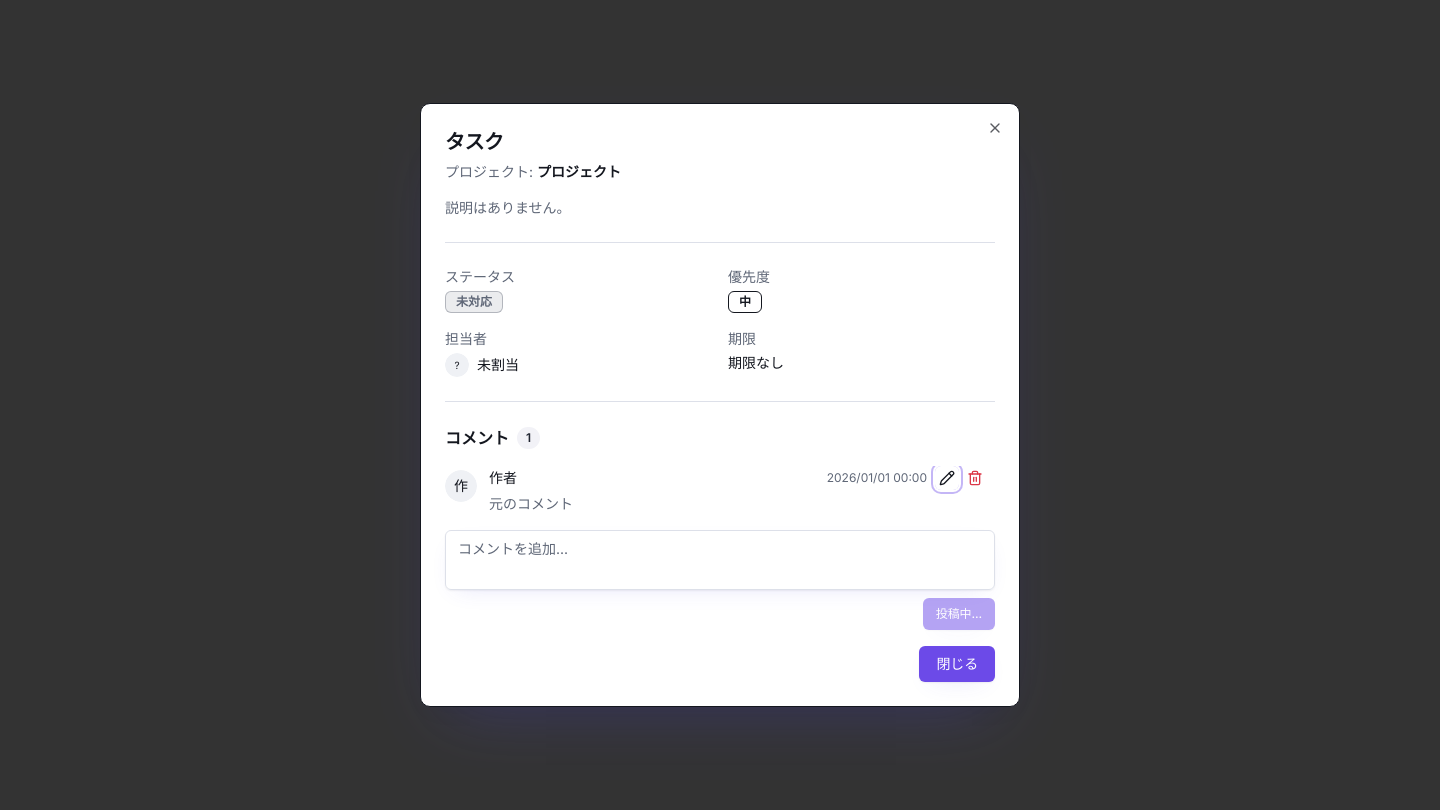
Scenario: コメント操作の共有ロック › 投稿の送信中は更新も削除確認の送信も止める
Type "下書き" into the text box named "コメント本文" at (720, 560), box [445, 530, 995, 590]
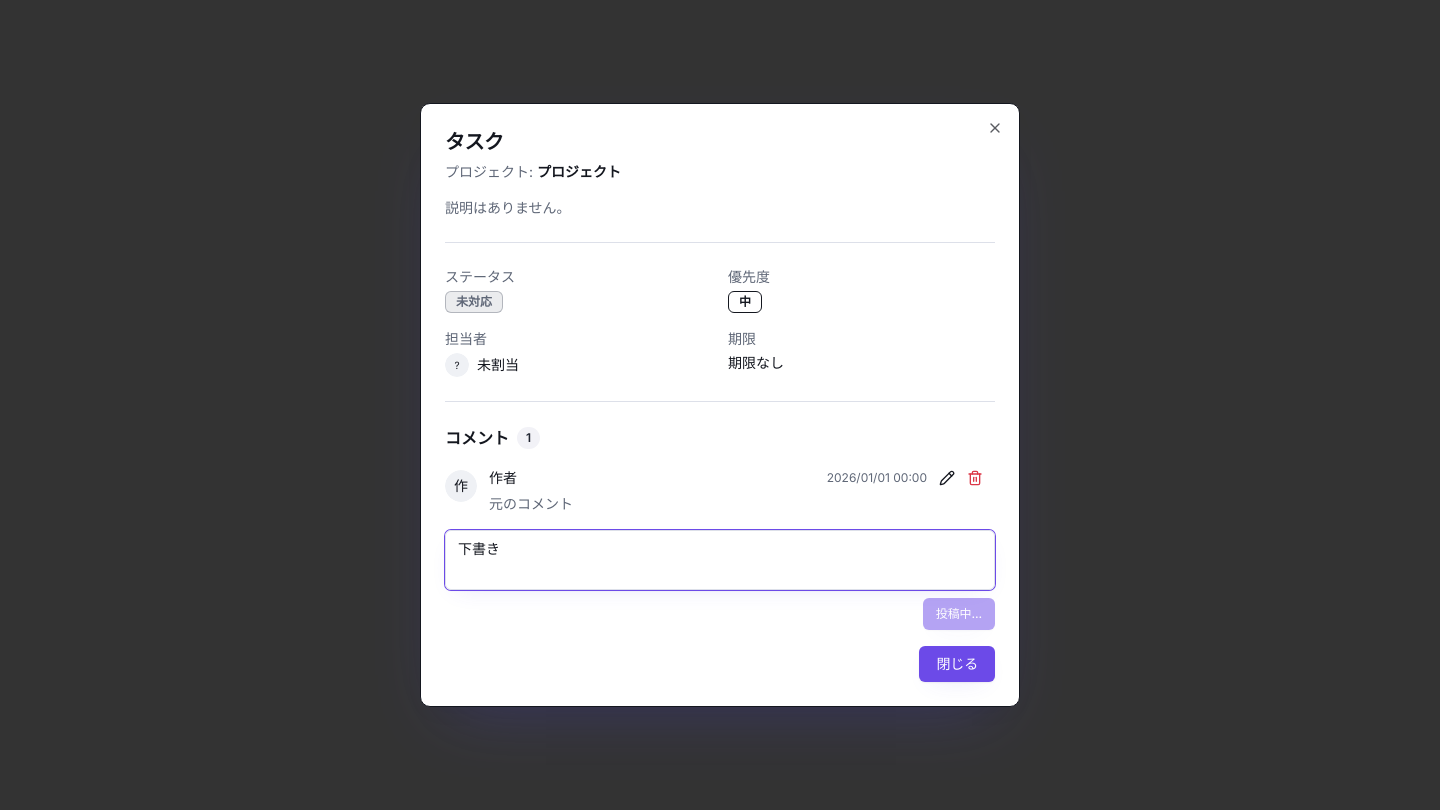
Expected: the button "投稿中..." is disabled, [923, 598, 995, 630]
Click the button named "コメントを編集" at (947, 478), box [935, 466, 959, 490]
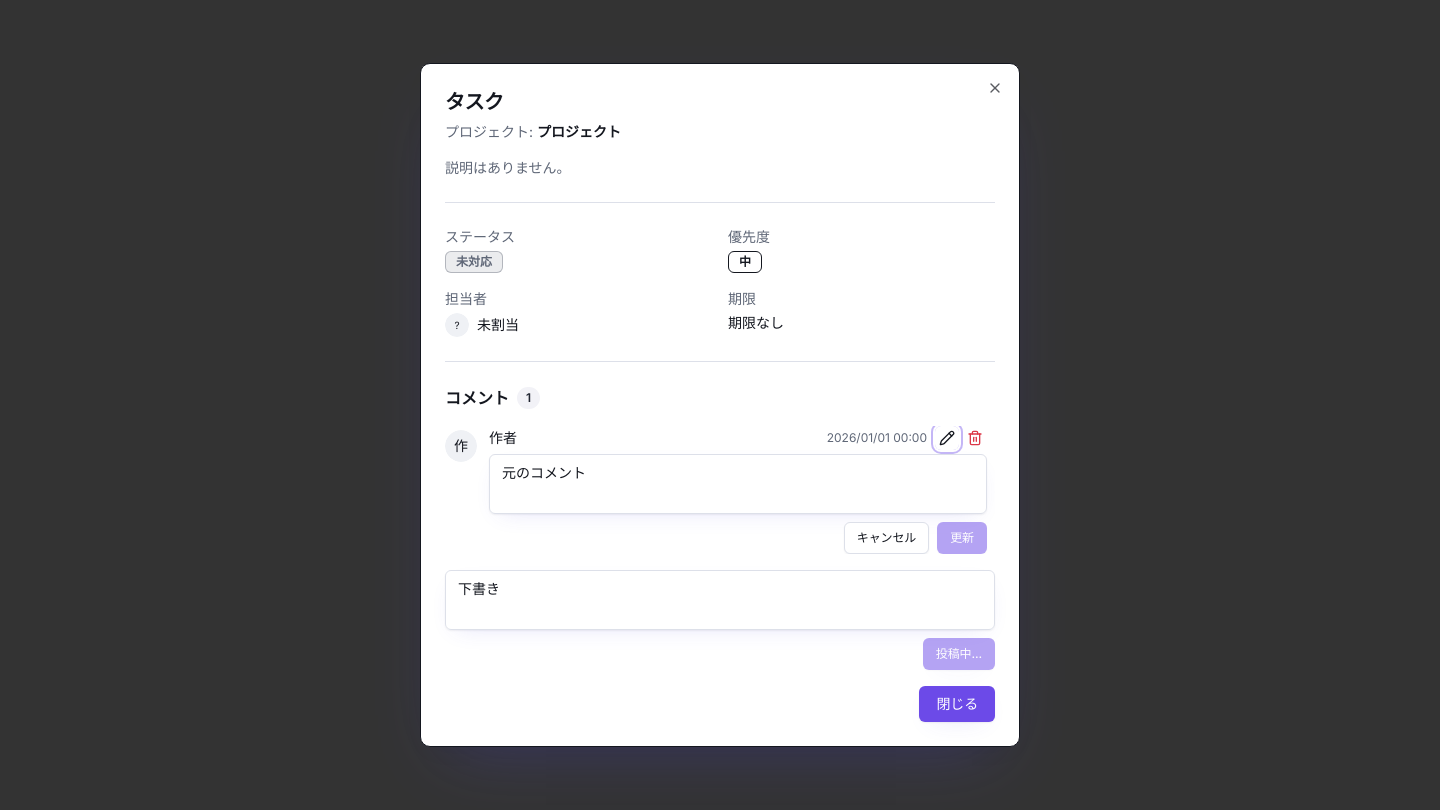
Expected: the button "更新" is disabled, [937, 522, 987, 554]
Click the button named "コメントを削除" at (975, 438), box [963, 426, 987, 450]
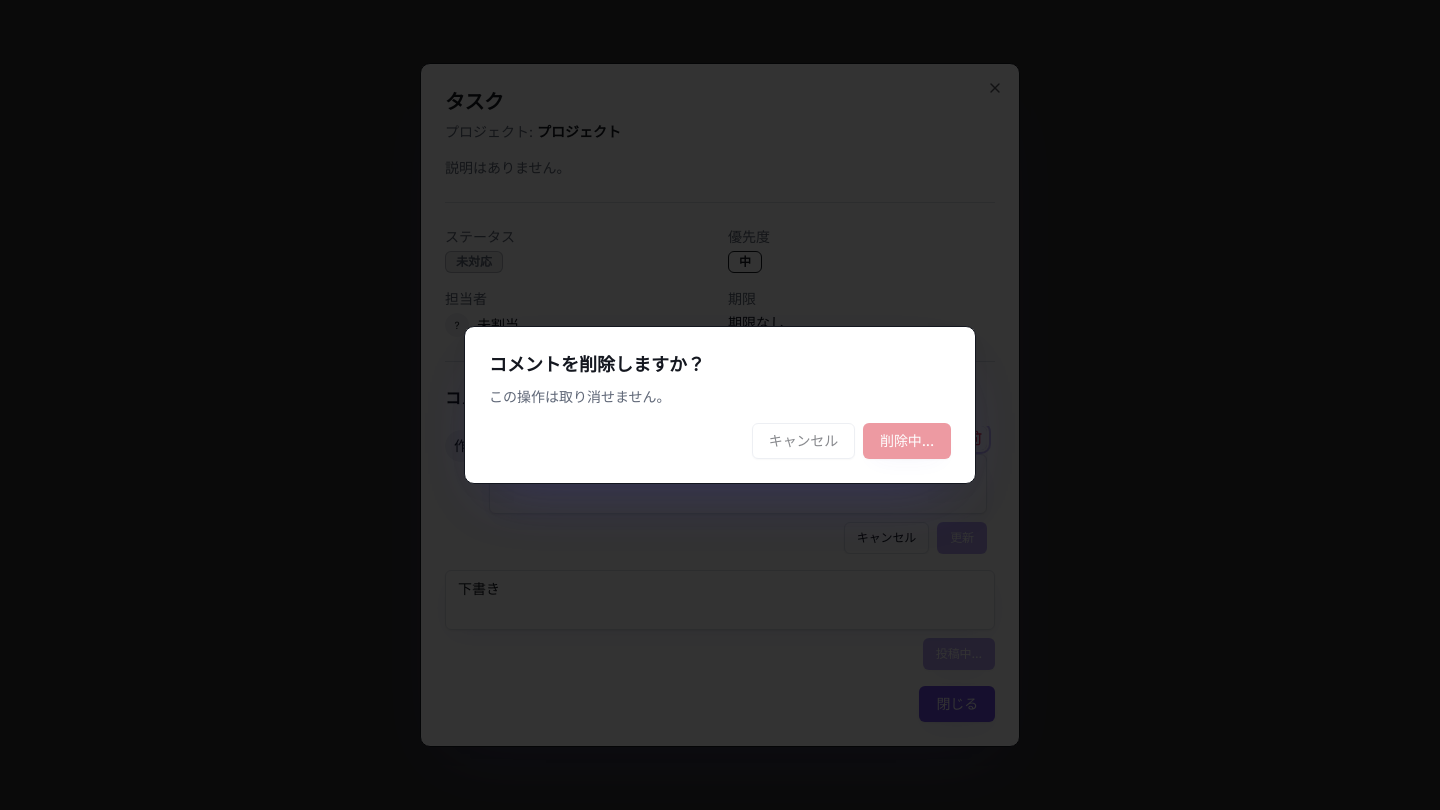
Expected: the button "削除中..." is disabled, [863, 423, 951, 459]
